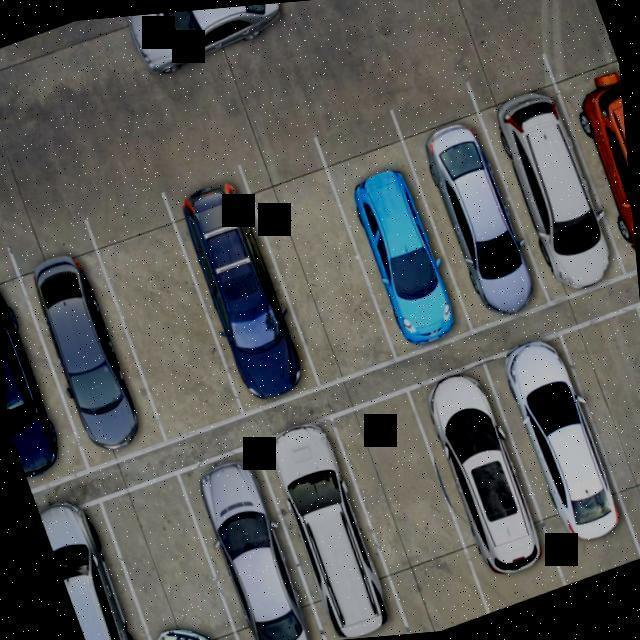space-empty: (94, 198, 241, 446), (240, 143, 393, 380), (335, 382, 480, 604), (563, 312, 640, 545)
space-occupied: (398, 95, 554, 331), (10, 227, 166, 462), (472, 69, 623, 297), (481, 331, 624, 565), (166, 172, 311, 402), (319, 129, 463, 356), (255, 415, 400, 639), (407, 365, 546, 584), (176, 441, 326, 640), (97, 468, 242, 640), (0, 263, 93, 497), (549, 53, 637, 279), (37, 487, 163, 640)
